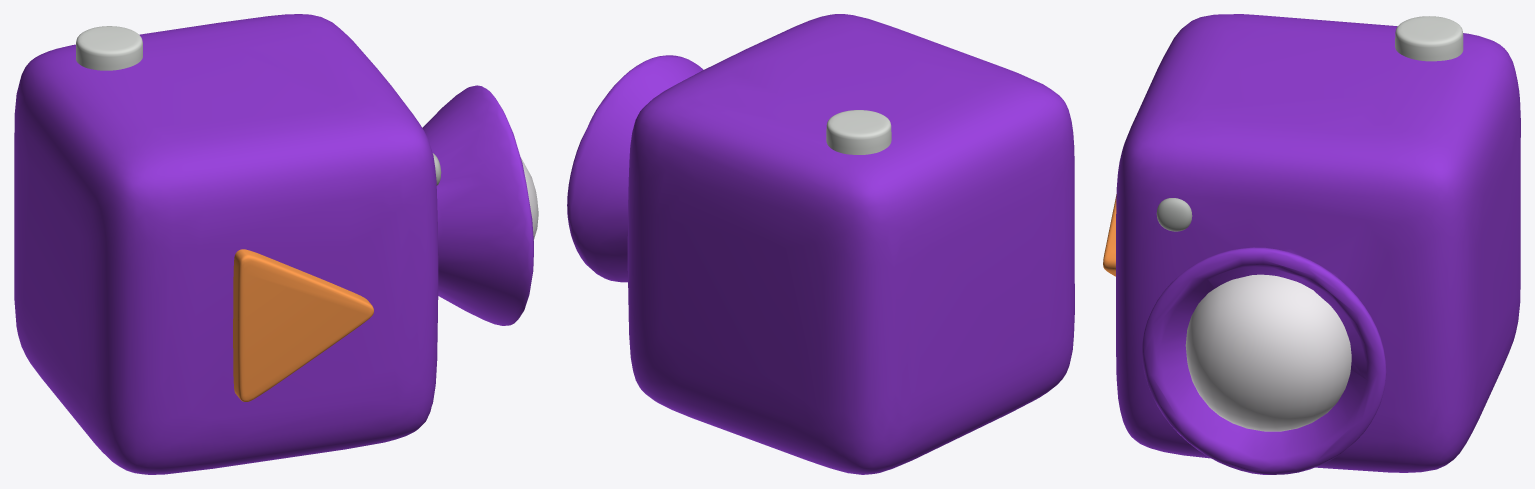
File: video.glb
3 views of the same model, side by side, from view 1: azimuth 30°, elevation 25°; view 2: azimuth 150°, elevation 25°; view 3: azimuth 270°, elevation 25° (orthographic). The views are drawn at different scales.
Parts seen in each view (by area): view 1: Cube.020; view 2: Cube.020; view 3: Cube.020.
Part boxes in pixels (<box>): Cube.020: <box>14,14,538,474</box>; Cube.020: <box>567,14,1074,474</box>; Cube.020: <box>1103,14,1520,474</box>.
Size of the model in its own units: 1.97 by 1.44 by 1.55.
Materials: 4 (4 with a texture image).
